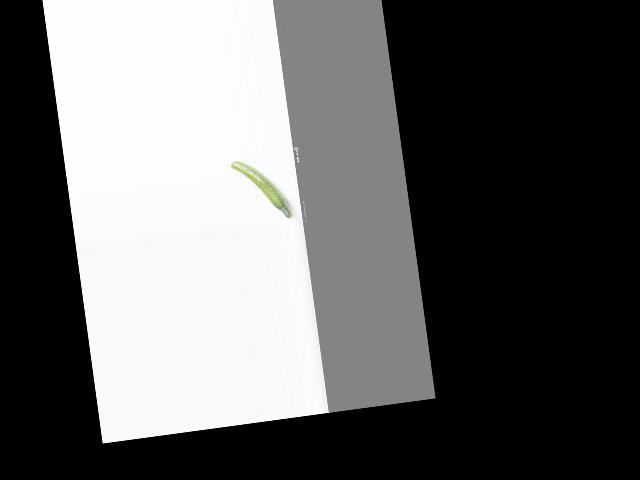cucumber: (230, 155, 293, 226)
